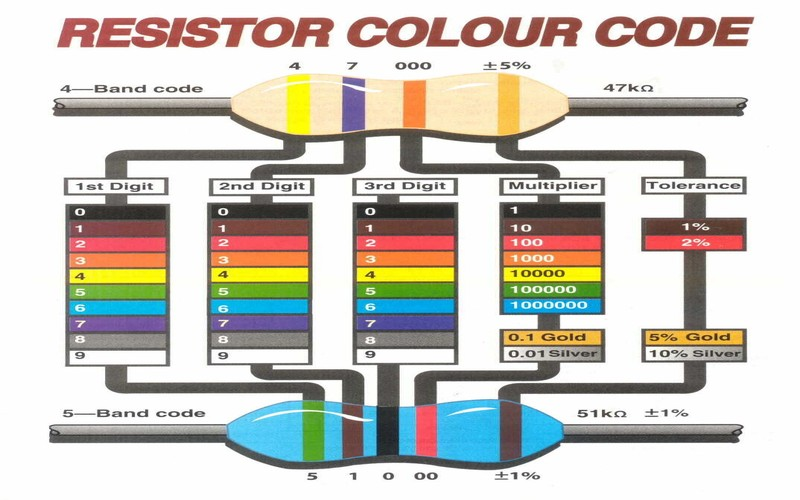Resistor: (216, 64, 580, 148), (204, 396, 571, 472)
